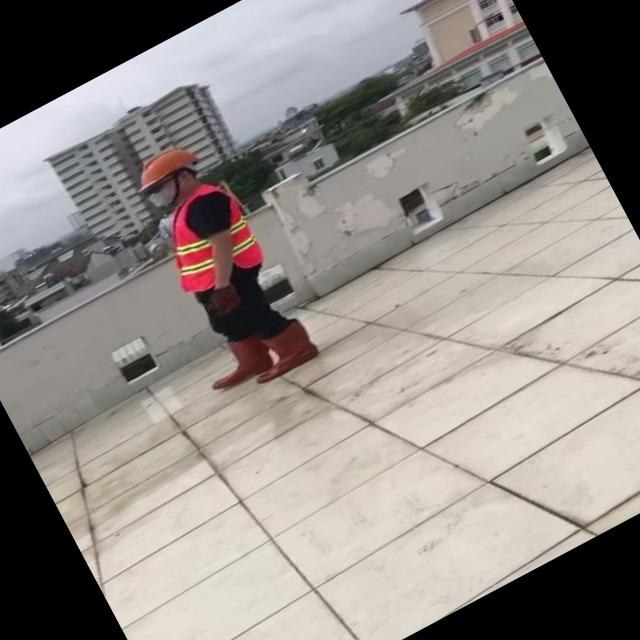hard_hat: (126, 138, 200, 194)
safety_vest: (150, 178, 272, 298)
vehicle: (97, 122, 334, 412)
work_boots: (243, 315, 325, 385), (200, 328, 276, 394)
